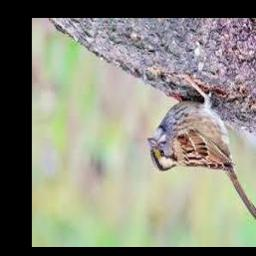Sparrow: (148, 73, 256, 224)
